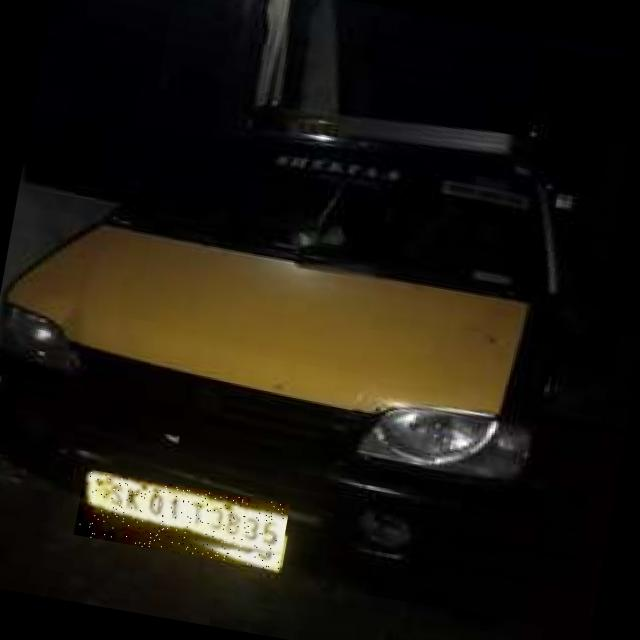Plate: (74, 470, 291, 572)
